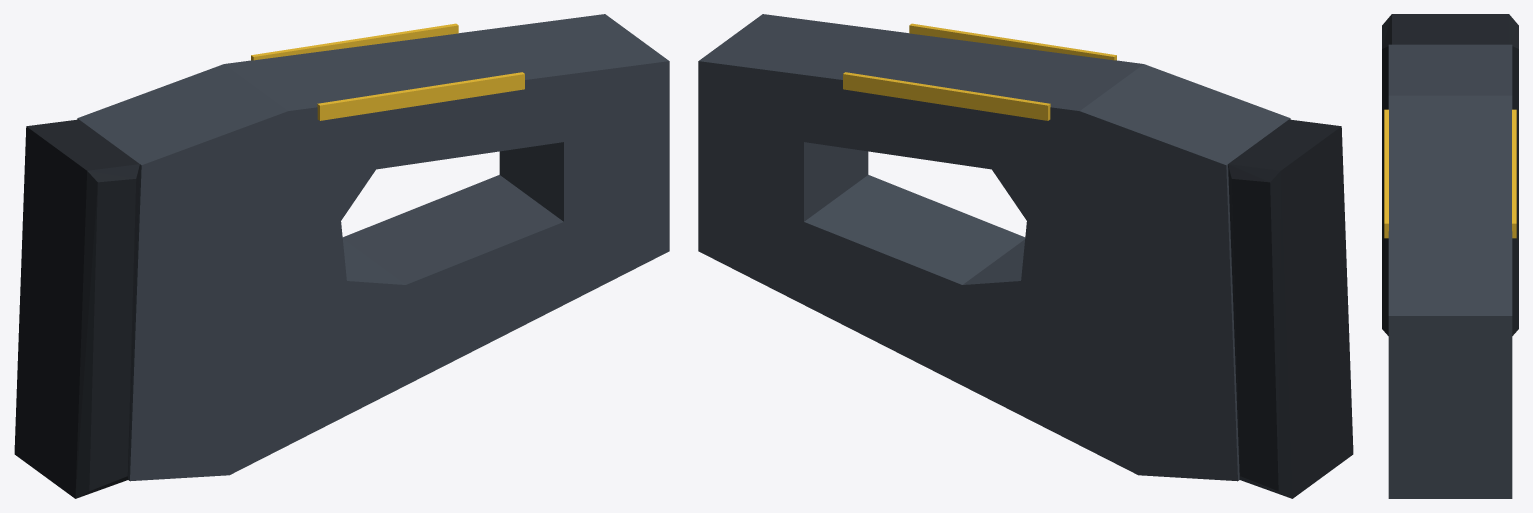
Rendered from stock_thumbhole.glb.
3 views of the same model, side by side, from view 1: azimuth 30°, elevation 25°; view 2: azimuth 150°, elevation 25°; view 3: azimuth 270°, elevation 25° (orthographic). The views are drawn at different scales.
Visible parts, largest first — view 1: stock_thumbhole; view 2: stock_thumbhole; view 3: stock_thumbhole.
Boxes of the visible parts, x1,y1,x2,y2 form: stock_thumbhole: (14, 14, 669, 498); stock_thumbhole: (698, 14, 1353, 498); stock_thumbhole: (1382, 14, 1518, 498).
Bounding box in the file's own units: 0.202 × 0.114 × 0.042.
